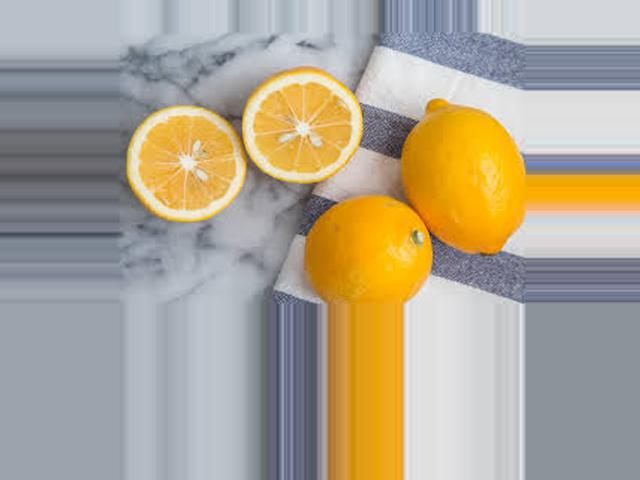lemon: (316, 196, 430, 305)
